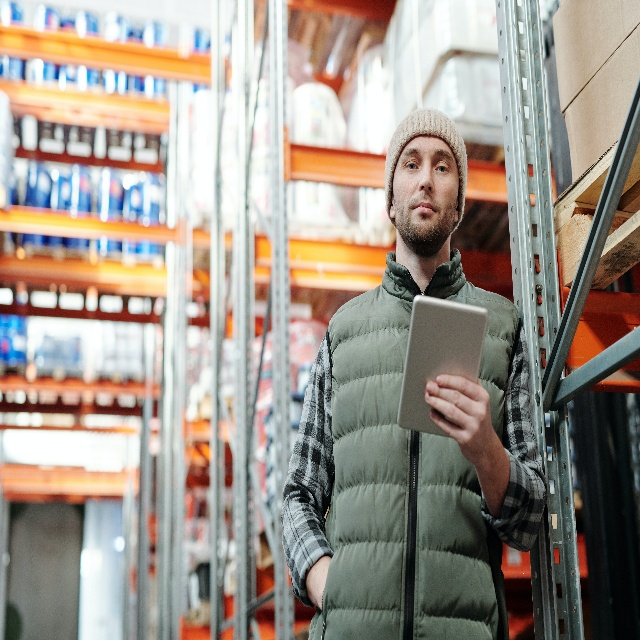Sin_guantes: (425, 369, 491, 465)
